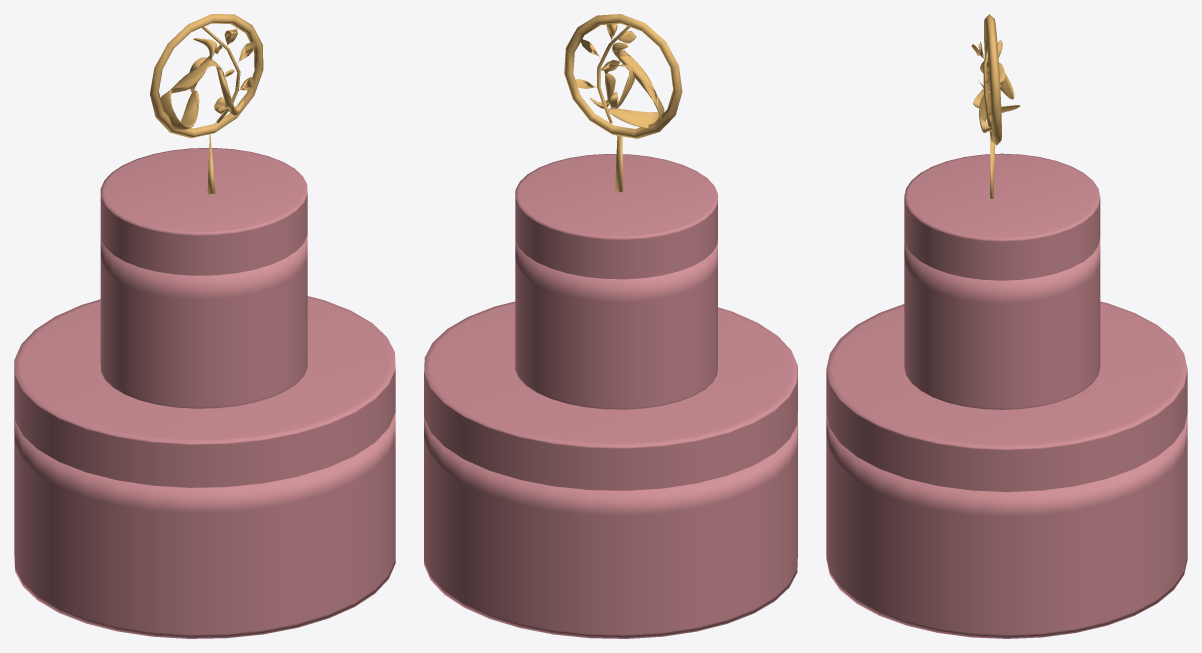
File: 2-tier-blush-none-ring.glb
The picture shows the model from 3 angles, left to right: view 1: azimuth 30°, elevation 25°; view 2: azimuth 150°, elevation 25°; view 3: azimuth 270°, elevation 25°; orthographic projection. The views are drawn at different scales.
Visible parts, largest first — view 1: Cylinder.023, Cylinder.013, Cylinder.011; view 2: Cylinder.023, Cylinder.013, Cylinder.011; view 3: Cylinder.023, Cylinder.013, Cylinder.011.
Part boxes in pixels (<box>): Cylinder.023: <box>14,296,395,638</box>; Cylinder.013: <box>100,148,307,408</box>; Cylinder.011: <box>150,14,263,193</box>; Cylinder.023: <box>424,301,797,638</box>; Cylinder.013: <box>515,154,717,409</box>; Cylinder.011: <box>564,14,682,192</box>; Cylinder.023: <box>826,301,1187,638</box>; Cylinder.013: <box>904,153,1100,409</box>; Cylinder.011: <box>971,14,1019,198</box>.
Bounding box in the file's own units: 3.4 × 5.36 × 3.27.
